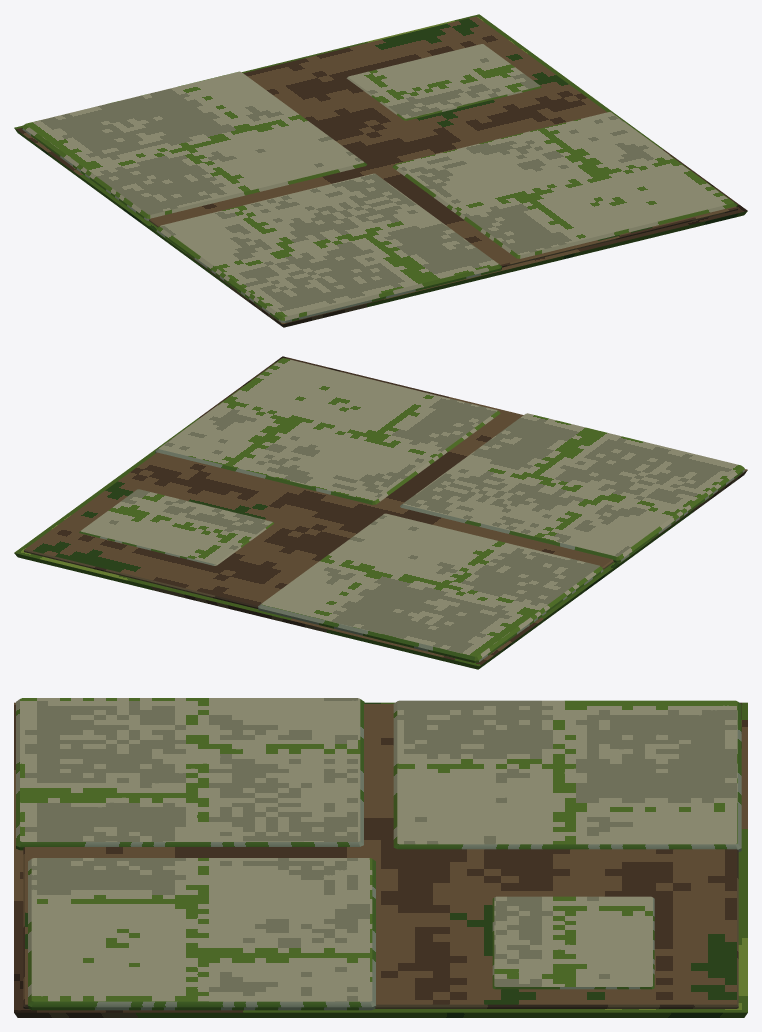
Rendered from ruin.floor__cracked.glb.
3 views of the same model, one above another, from view 1: azimuth 30°, elevation 25°; view 2: azimuth 150°, elevation 25°; view 3: azimuth 270°, elevation 25° (orthographic). The views are drawn at different scales.
Parts seen in each view (by area): view 1: kit_slabs, kit_sand, kit_bed; view 2: kit_slabs, kit_sand, kit_bed; view 3: kit_slabs, kit_sand, kit_bed.
Part boxes in pixels (x1,y1,x2,y2): kit_slabs: (22, 44, 737, 322); kit_sand: (149, 16, 737, 267); kit_bed: (14, 14, 747, 327); kit_slabs: (79, 358, 744, 662); kit_sand: (24, 410, 613, 608); kit_bed: (14, 356, 747, 669); kit_slabs: (16, 698, 741, 1010); kit_sand: (23, 704, 738, 1008); kit_bed: (14, 702, 747, 1017).
Bounding box in the file's own units: 4 × 0.08 × 4.
3 materials, 3 textured.
